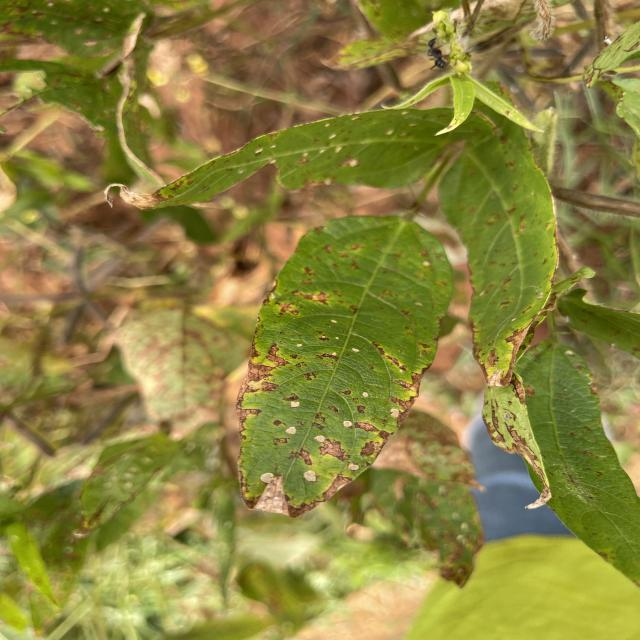Black gram_leaf spot: (229, 207, 453, 519), (443, 126, 575, 510), (0, 411, 189, 640), (102, 106, 462, 208)
